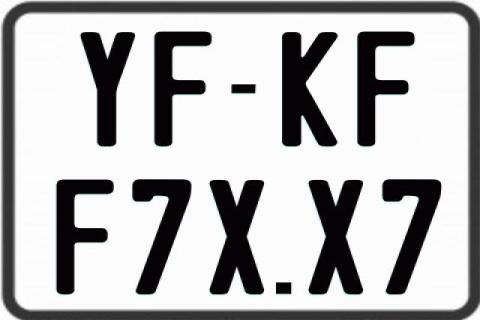0: (382, 179, 446, 295), (130, 177, 190, 297)
F: (356, 30, 419, 148), (54, 177, 117, 293), (152, 29, 213, 144)
K: (279, 31, 335, 148)
X: (308, 179, 366, 296), (210, 179, 266, 299)
Y: (79, 31, 140, 147)
